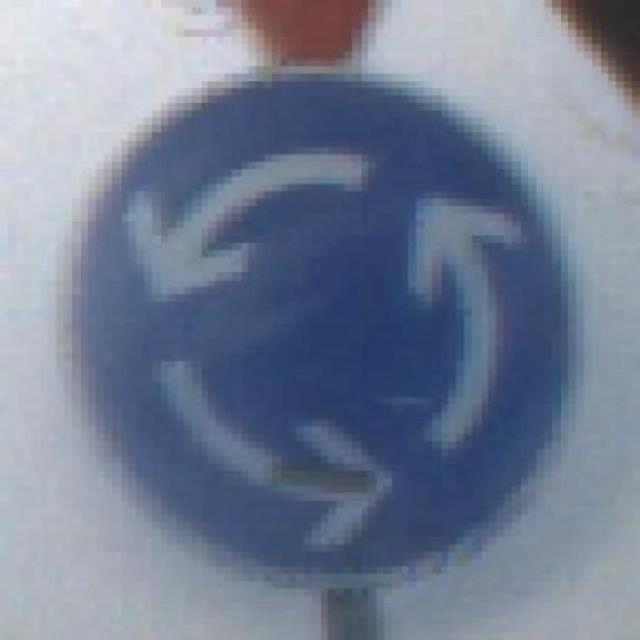Round-About: (31, 52, 608, 603)
